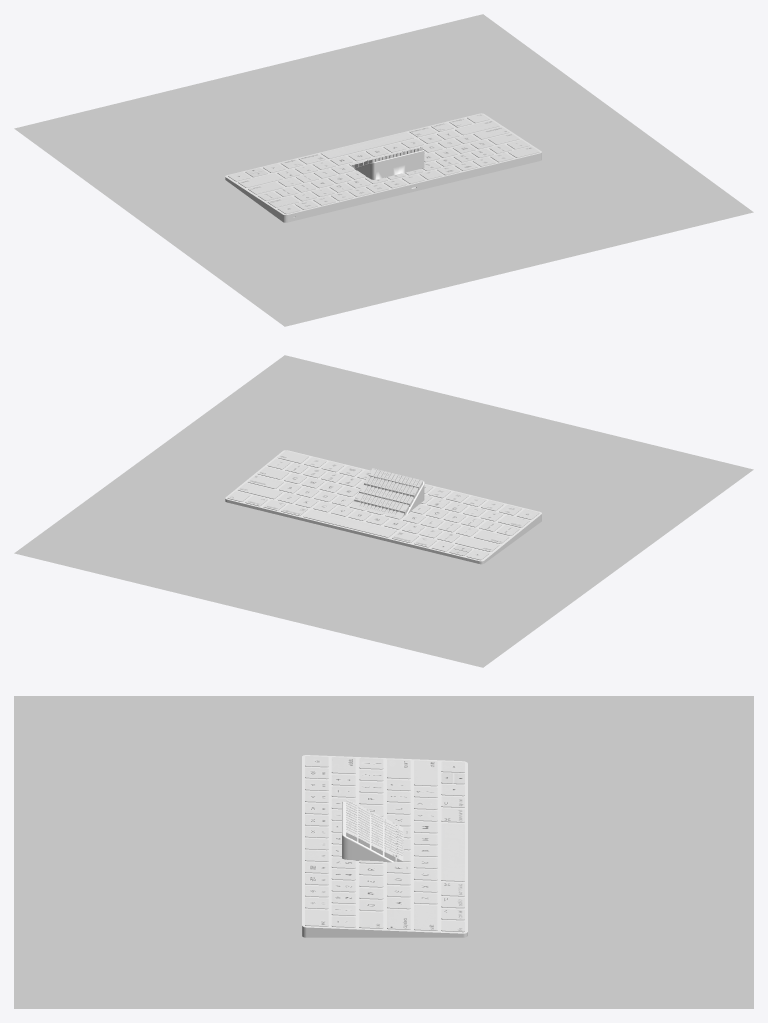
The model's file is Keyboard.glb.
3 renders of one model, top to bottom at view 1: azimuth 30°, elevation 25°; view 2: azimuth 150°, elevation 25°; view 3: azimuth 270°, elevation 25°, orthographic. The views are drawn at different scales.
Parts seen in each view (by area): view 1: Plane, KeyboardBaru, KeyboardImac; view 2: Plane, KeyboardBaru, KeyboardImac; view 3: Plane, KeyboardBaru, KeyboardImac.
Boxes of the visible parts, bbox=[...] form: Plane: bbox=[14, 14, 753, 326]; KeyboardBaru: bbox=[225, 113, 541, 222]; KeyboardImac: bbox=[352, 147, 424, 179]; Plane: bbox=[14, 355, 753, 667]; KeyboardBaru: bbox=[225, 450, 541, 564]; KeyboardImac: bbox=[351, 468, 424, 516]; Plane: bbox=[14, 696, 753, 1008]; KeyboardBaru: bbox=[302, 755, 467, 937]; KeyboardImac: bbox=[342, 799, 404, 862].
Bounding box in the file's own units: 17.64 × 2.02 × 17.64.
Materials: 7 (1 with a texture image).
